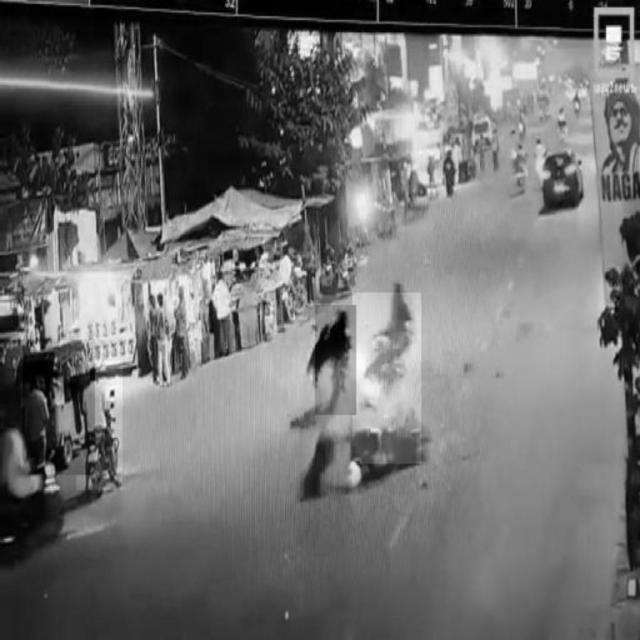accident: (353, 293, 421, 463)
vehicle: (23, 339, 96, 475), (77, 362, 123, 490), (315, 305, 356, 415), (543, 150, 585, 207)
